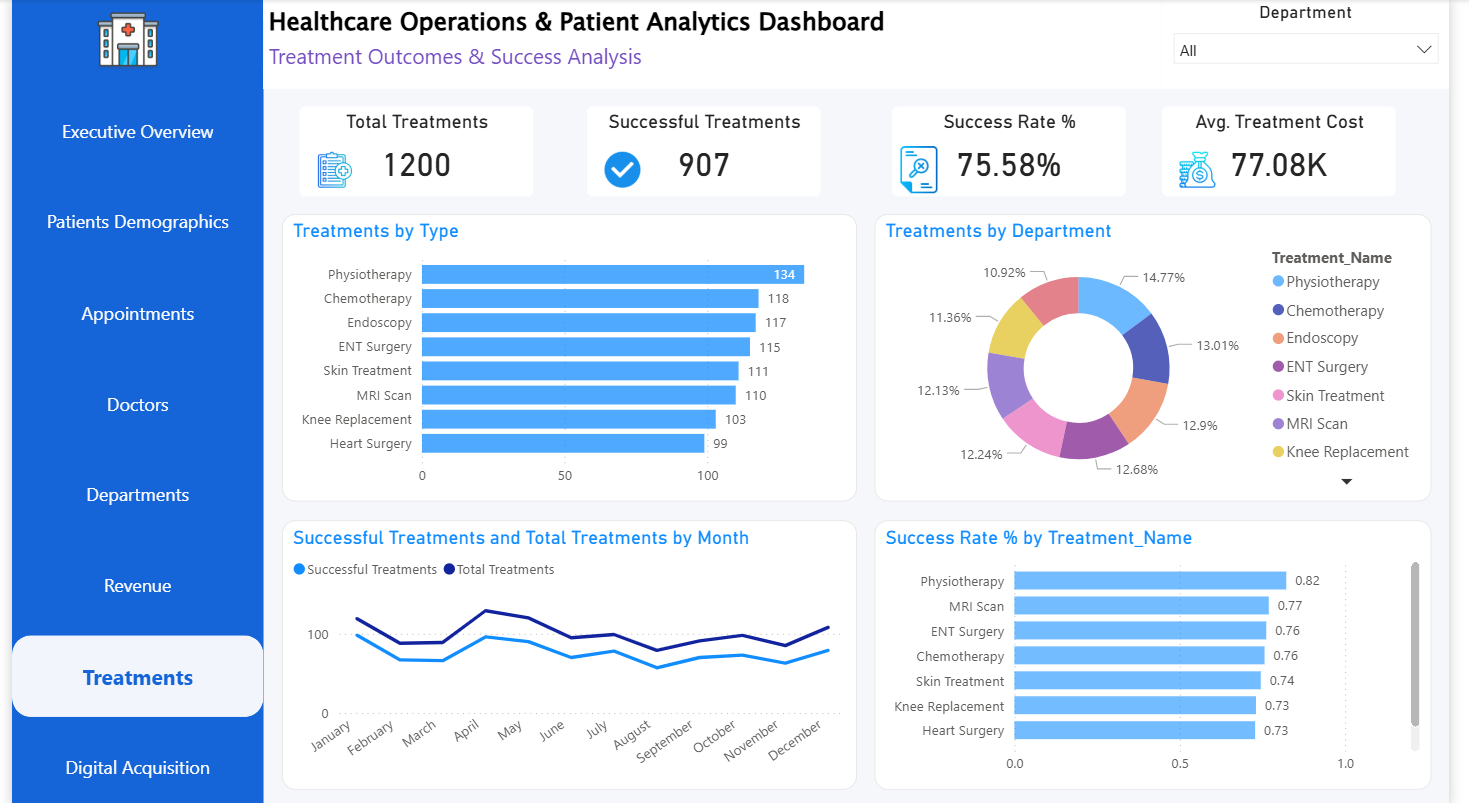

What the dashboard file says about the page in this screenshot:
{"tool":"powerbi","page":{"name":"Treatments","canvas":[1280,720],"ordinal":6},"visuals":[{"type":"shape","box":[0,0,224,80],"z":0,"group":"g1"},{"type":"card","title":"Total Treatments","fields":{"Values":["CountNonNull(Treatments.Treatment_ID)"]},"box":[256,96,208,80],"z":0},{"type":"image","box":[64,0,80,64],"z":1000,"group":"g1"},{"type":"card","title":"Successful Treatments","fields":{"Values":["Treatments.Successful Treatments"]},"box":[512,96,208,80],"z":1000},{"type":"card","title":"Success Rate %","fields":{"Values":["Treatments.Success_Rate%"]},"box":[784,96,208,80],"z":2000},{"type":"card","title":"Avg. Treatment Cost","fields":{"Values":["Treatments.Avg Treatment Cost"]},"box":[1024,96,208,80],"z":3000},{"type":"barChart","title":"Treatments by Type","fields":{"Y":["Sum(vw_Treatment_Success.Total_Treatments)"],"Category":["vw_Treatment_Success.Treatment_Name"]},"box":[240,192,512,256],"z":4000},{"type":"donutChart","title":"Treatments by Department","fields":{"Y":["Sum(vw_Treatment_Success.Total_Treatments)"],"Category":["vw_Treatment_Success.Treatment_Name"]},"box":[768,192,496,256],"z":5000},{"type":"pageNavigator","box":[0,80,224,640],"z":6000},{"type":"group","id":"g1","title":"Group 1","box":[0,0,224,80],"z":7000},{"type":"textbox","box":[224,0,800,80],"z":8000},{"type":"slicer","title":"Department","fields":{"Values":["Departments.Department_Name"]},"box":[1024,0,256,80],"z":9000},{"type":"image","box":[272,128,32,48],"z":10000},{"type":"image","box":[528,128,32,48],"z":11000},{"type":"image","box":[784,128,48,48],"z":12000},{"type":"image","box":[1040,128,32,48],"z":13000},{"type":"lineChart","fields":{"Y":["Treatments.Successful Treatments","Treatments.Total Treatments"],"Category":["Treatments.Treatment_Date.Variation.Date Hierarchy.Month"]},"box":[240,464,512,240],"z":14000},{"type":"barChart","fields":{"Y":["Treatments.Success Rate %"],"Category":["Treatments.Treatment_Name"]},"box":[768,464,496,240],"z":15000}]}

Visuals, with their boxes on the page's 1280x720 design canvas (x1, y1, x2, y2). These are canvas units, not pixel positions in the 1469x803 screenshot, which may show the page scaled, cropped or inside an application window:
shape: [0,0,224,80]
"Total Treatments" card: [256,96,464,176]
image: [64,0,144,64]
"Successful Treatments" card: [512,96,720,176]
"Success Rate %" card: [784,96,992,176]
"Avg. Treatment Cost" card: [1024,96,1232,176]
"Treatments by Type" barChart: [240,192,752,448]
"Treatments by Department" donutChart: [768,192,1264,448]
pageNavigator: [0,80,224,720]
"Group 1" group: [0,0,224,80]
textbox: [224,0,1024,80]
"Department" slicer: [1024,0,1280,80]
image: [272,128,304,176]
image: [528,128,560,176]
image: [784,128,832,176]
image: [1040,128,1072,176]
lineChart - Treatments.Successful Treatments x Treatments.Total Treatments: [240,464,752,704]
barChart - Treatments.Success Rate % x Treatments.Treatment_Name: [768,464,1264,704]
